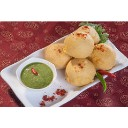bonda: (90, 41, 117, 71), (66, 58, 96, 84), (66, 33, 94, 57), (45, 45, 71, 68)
